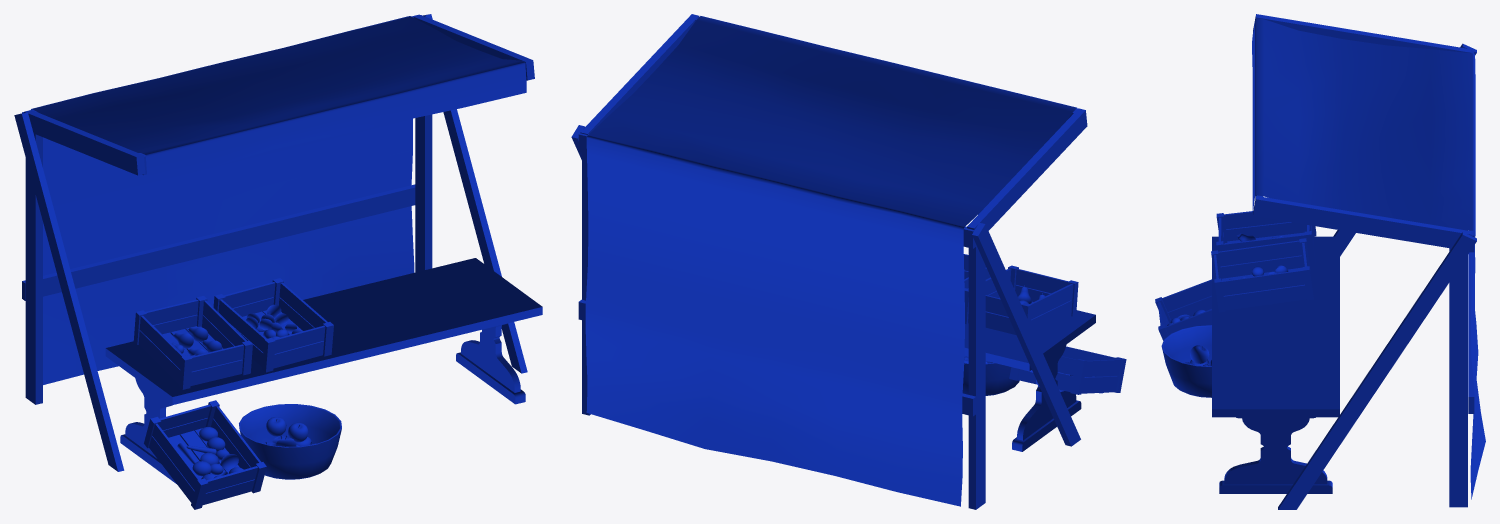
Rendered from stand.fbx.
3 renders of one model, left to right at view 1: azimuth 30°, elevation 25°; view 2: azimuth 150°, elevation 25°; view 3: azimuth 270°, elevation 25°, orthographic. The views are drawn at different scales.
Parts seen in each view (by area): view 1: stand, box3, box1, box2, basket, potato, lemon, apple, pear; view 2: stand, box1, box3, basket; view 3: stand, box2, box1, basket, box3, apple.
Part boxes in pixels (x1,y1,x2,y2): stand: (14,14,542,483); box3: (144,400,266,509); box1: (133,296,252,389); box2: (213,278,333,372); basket: (239,404,341,479); potato: (192,427,243,480); lemon: (246,304,302,339); apple: (265,417,316,446); pear: (171,327,222,356); stand: (571,14,1095,509); box1: (964,265,1078,335); box3: (1009,346,1126,394); basket: (962,362,1019,395); stand: (1212,14,1485,509); box2: (1211,238,1313,312); box1: (1216,211,1316,264); basket: (1161,325,1211,397); box3: (1155,279,1211,340); apple: (1185,345,1211,366).
Bounding box in the file's own units: 11.33 × 8.51 × 8.29.
